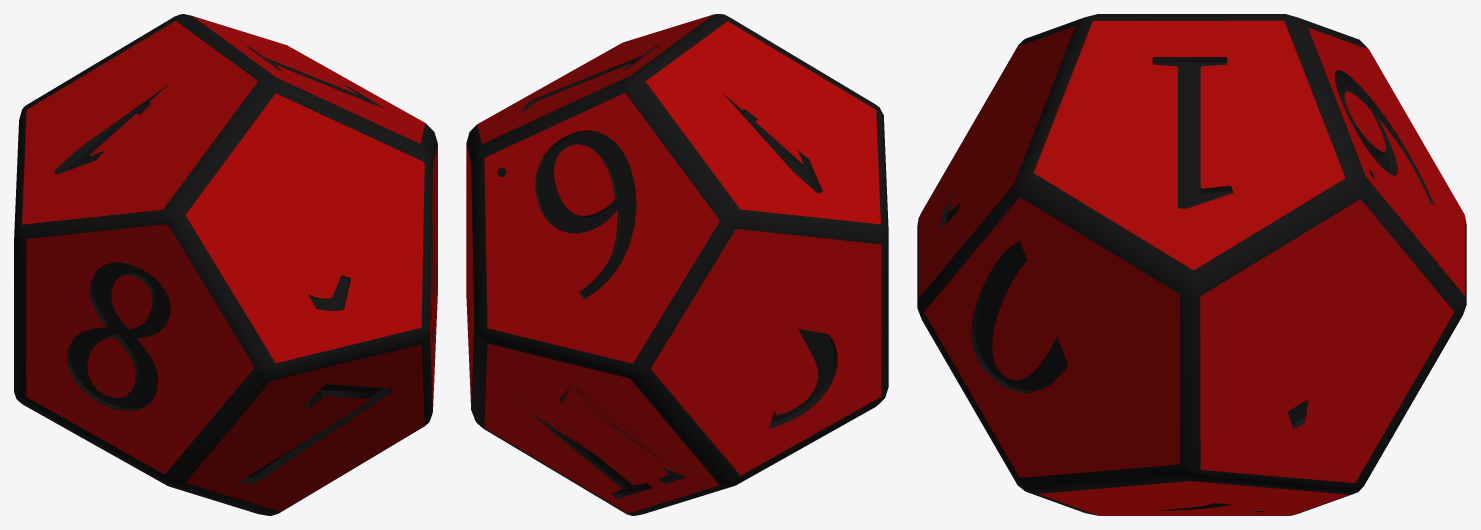
File: Dice_D12.fbx
3 views of the same model, side by side, from view 1: azimuth 30°, elevation 25°; view 2: azimuth 150°, elevation 25°; view 3: azimuth 270°, elevation 25° (orthographic). The views are drawn at different scales.
Parts seen in each view (by area): view 1: D12; view 2: D12; view 3: D12.
Part boxes in pixels (left/top/right/bottom): D12: left=14, top=14, right=437, bottom=515; D12: left=466, top=14, right=888, bottom=515; D12: left=917, top=14, right=1466, bottom=515.
Bounding box in the file's own units: 394 × 394 × 394.
